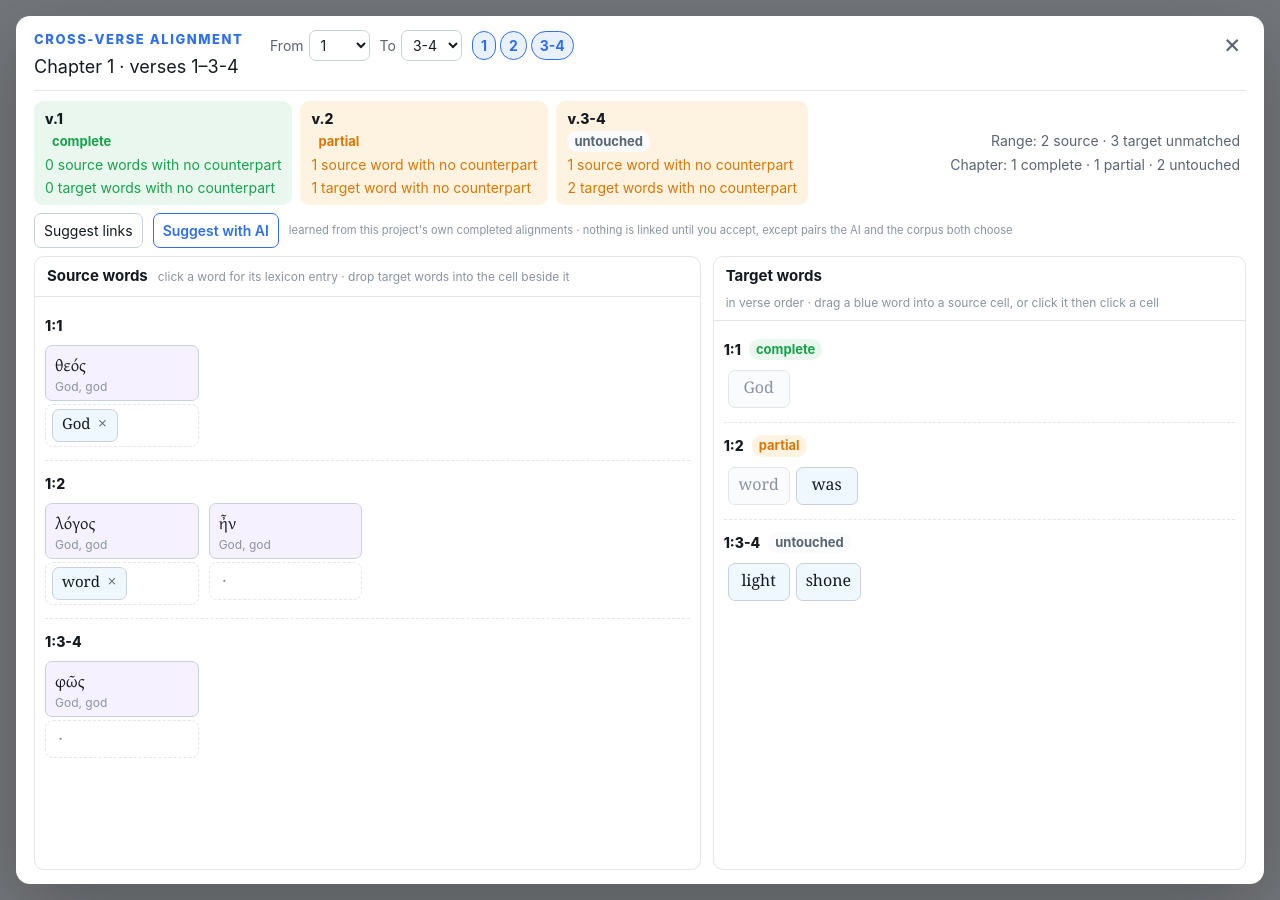
Test: CrossVerseAlignmentModal › clicking a verse in the gap overview filters both columns to that verse's gaps
The image size is (1280, 900).
Expected: the 2nd text "1:2" is shown, [45,472,65,494]
Click the button "v.2" at (424, 153), box [300,100,548,205]
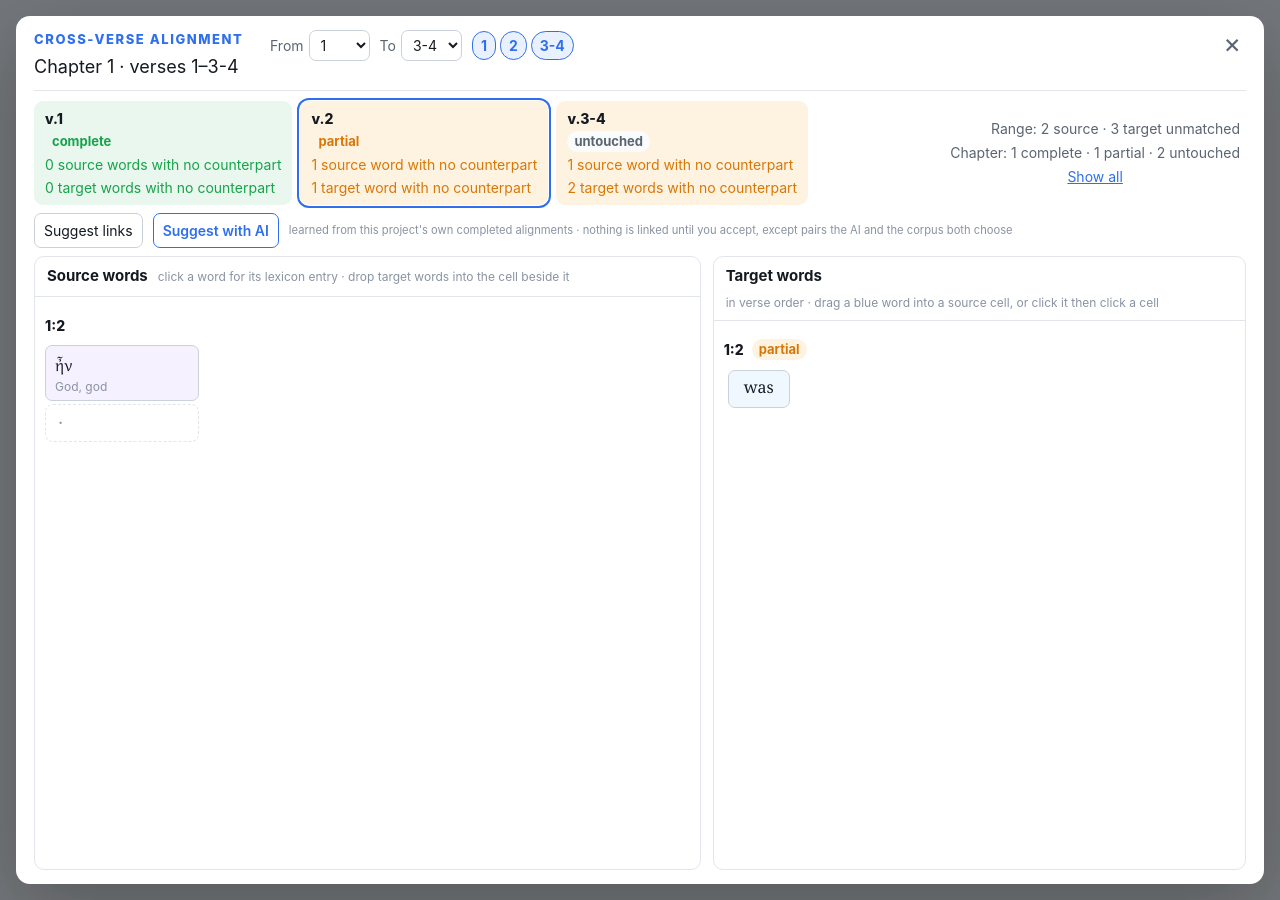
Expected: the text "1:1" is not shown
Expected: the button "λόγος" is gone
Expected: the text "θεός" is gone
Click the button "Show all" at (1095, 177), box [950,166,1240,187]
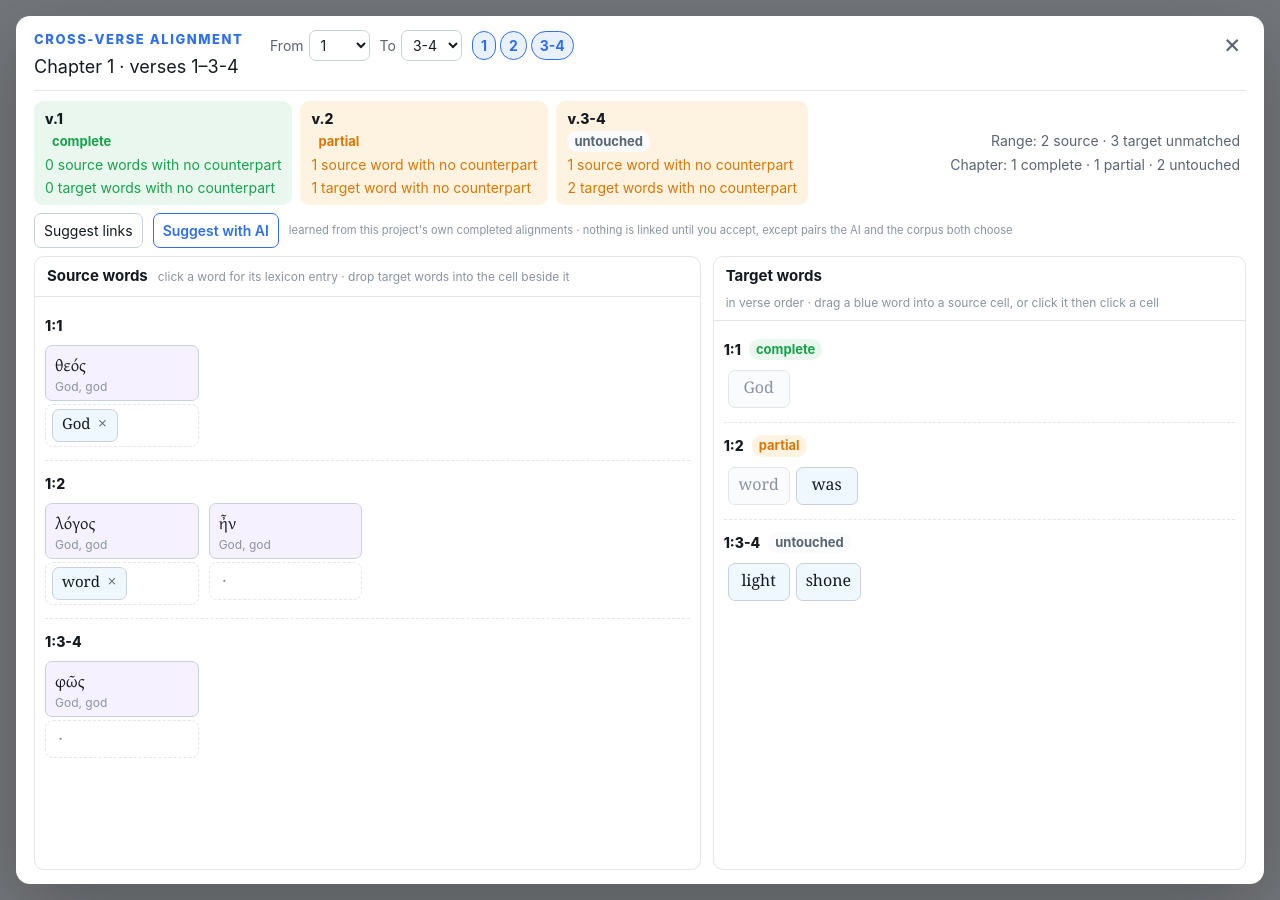
Expected: the text "1:1" is shown 2 times, [45,314,62,336]; [724,339,741,360]
